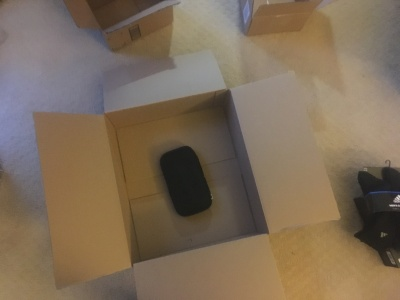innerbox: (119, 100, 242, 248)
outerbox: (46, 65, 329, 297)
product: (163, 147, 208, 213)
